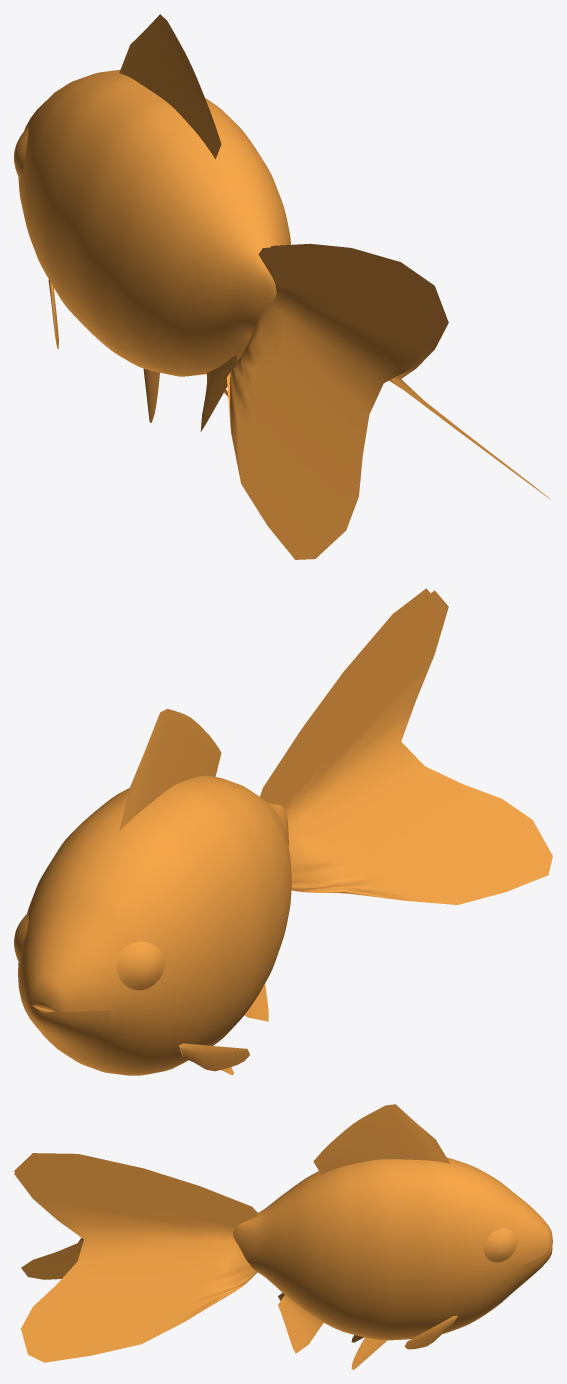
Rendered from goldfish_fantail.glb.
3 views of the same model, one above another, from view 1: azimuth 30°, elevation 25°; view 2: azimuth 150°, elevation 25°; view 3: azimuth 270°, elevation 25° (orthographic). The views are drawn at different scales.
Visible parts, largest first — view 1: goldfish_fantail; view 2: goldfish_fantail; view 3: goldfish_fantail.
Part boxes in pixels (x1,y1,x2,y2): goldfish_fantail: (14, 14, 550, 559); goldfish_fantail: (14, 588, 552, 1075); goldfish_fantail: (14, 1104, 552, 1369).
Bounding box in the file's own units: 0.0542 × 0.0769 × 0.1491.
